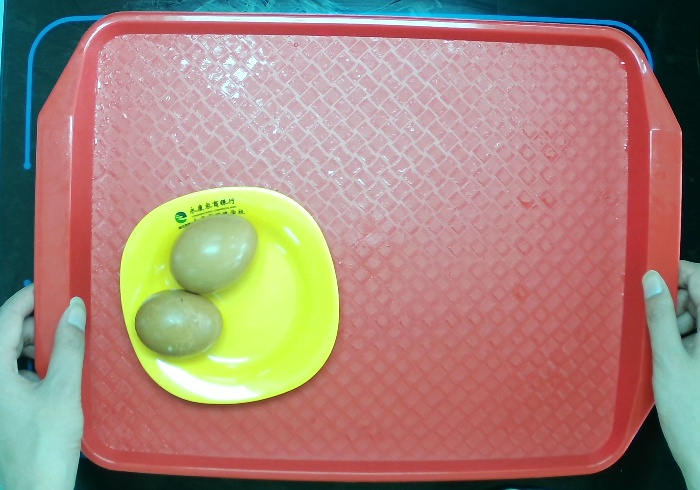YKMZ-Huang_Se_Fang_Die: (116, 184, 342, 406)
